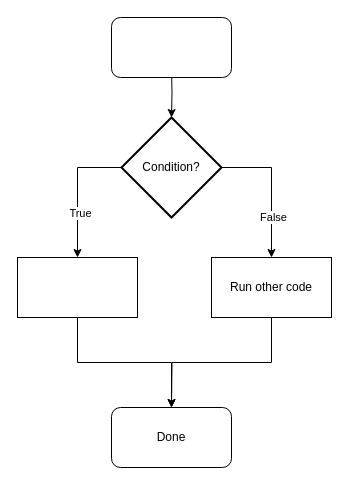
This 349x485 diagram has some shape labels left out. Each missing label, with the centre of its shape:
"Run this code" goes at pixel 77 287.
"Start" goes at pixel 171 47.
